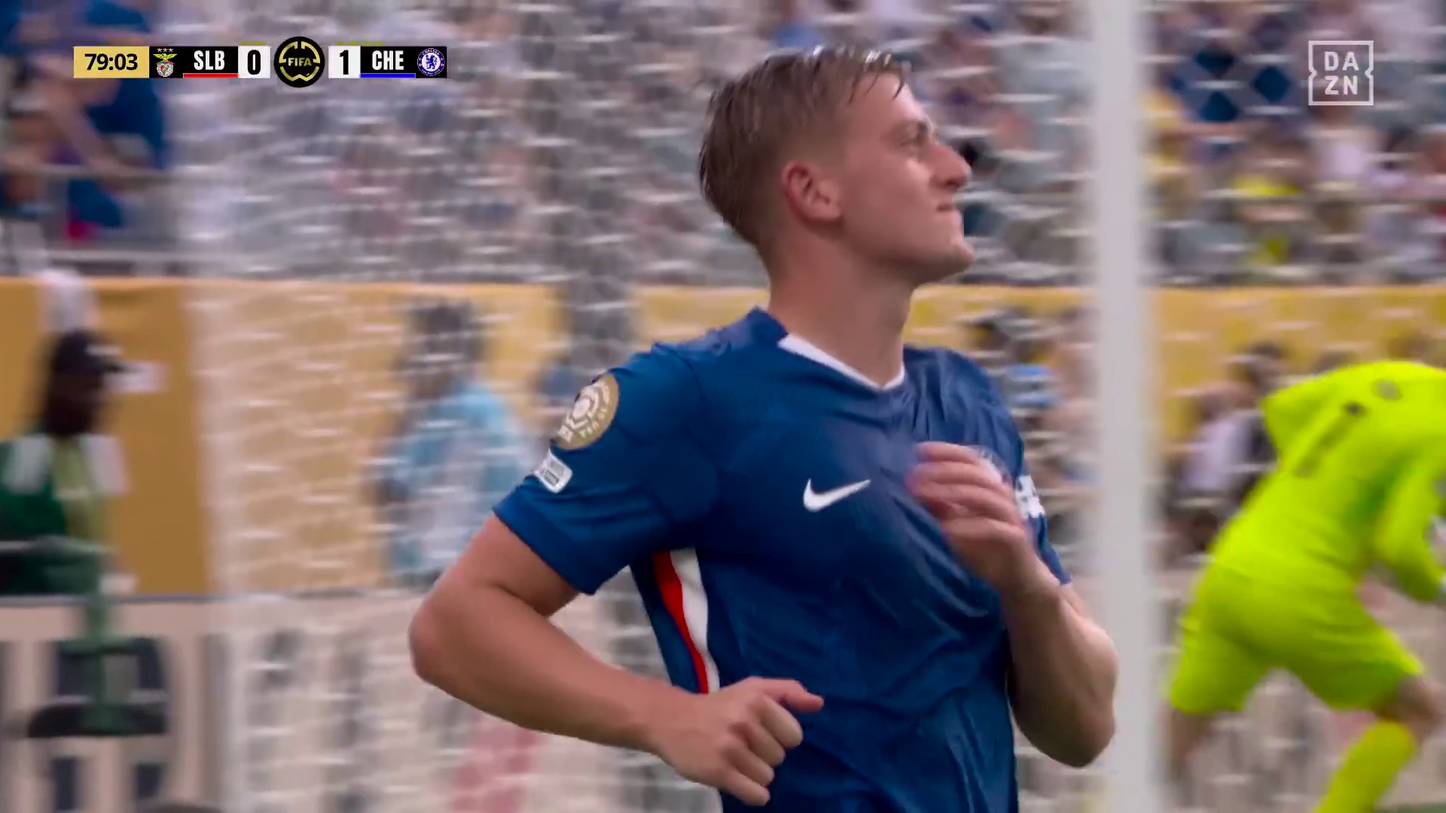player: (404, 37, 1132, 810), (1150, 297, 1446, 813)
